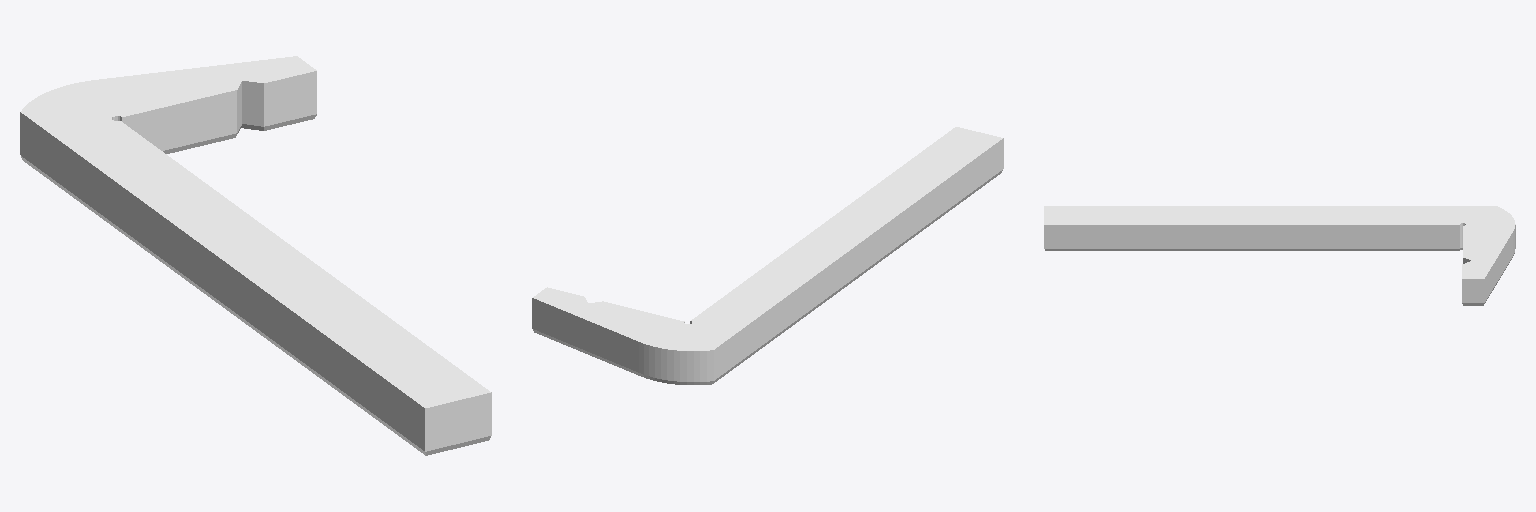
The robot description file, URDF, robot "ClampBar85":
<?xml version="1.0" ?>
<robot name="ClampBar85">
  <link name="ClampBar85">
    <contact>
      <lateral_friction value="1.0"/>
      <rolling_friction value="1.0"/>
      <inertia_scaling value="3.0"/>
      <contact_cdm value="0.0"/>
      <contact_erp value="1.0"/>
    </contact>
    <inertial>
      <origin rpy="0 0 0" xyz="0 0 0"/>
      <mass value="1.0"/>
      <inertia ixx="0" ixy="0" ixz="0" iyy="0" iyz="0" izz="0"/>
    </inertial>
    <visual>
      <origin rpy="0 0 0" xyz="0 0 0"/>
      <geometry>
        <mesh filename="ClampBar85_vis.obj" scale="1.0 1.0 1.0"/>
      </geometry>
      <material name="blockmat">
        <color rgba="1.0 1.0 1.0 1.0"/>
      </material>
    </visual>
    <collision>
      <origin rpy="0 0 0" xyz="0 0 0"/>
      <geometry>
        <mesh filename="ClampBar85_col.obj" scale="1.0 1.0 1.0"/>
      </geometry>
    </collision>
  </link>
</robot>

--- Facts derived from the render (not from the file) ---
3 views of the same robot in one strip: view 1: azimuth 30°, elevation 25°; view 2: azimuth 150°, elevation 25°; view 3: azimuth 270°, elevation 25° (orthographic).
Robot: ClampBar85 — 1 links, 0 joints (none); root link ClampBar85; default pose: every joint at zero.
Visible links, largest first — view 1: ClampBar85; view 2: ClampBar85; view 3: ClampBar85.
Link boxes in pixels (x1,y1,x2,y2): ClampBar85: [20, 56, 491, 455]; ClampBar85: [532, 127, 1003, 384]; ClampBar85: [1044, 206, 1515, 305].
Bounding box of the posed robot: 0.04 × 0.11 × 0.007 m (x, y, z).
1 mesh visuals loaded from 1 distinct referenced files (1 OBJ).
